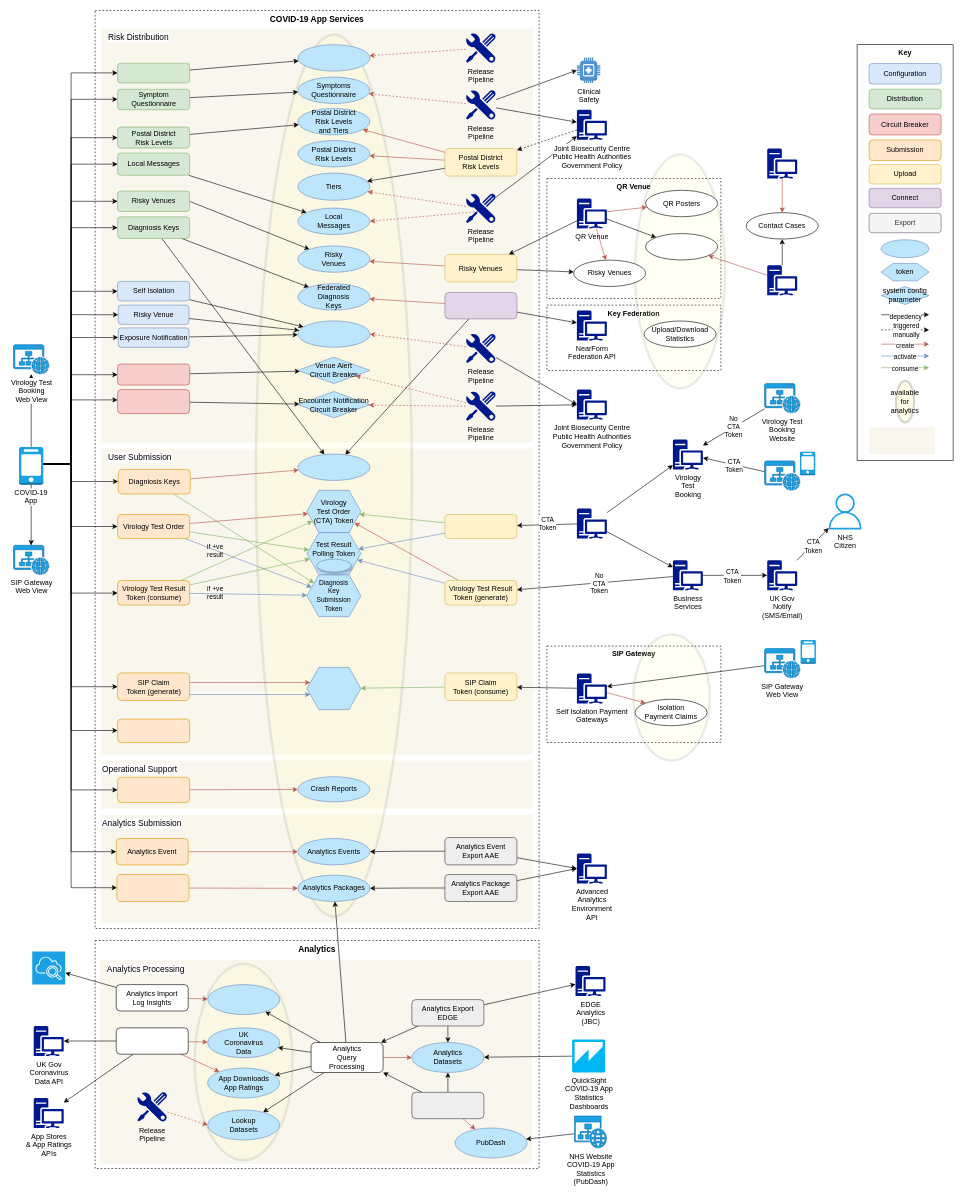
This 964x1198 diagram has some shape labels left out. Here are the shapes that lost their labels. From the top down, the centre of each, then its label:
[153,73]: App Availability
[333,57]: Minimum & Recommended Versions
[782,163]: Contact Tracing
[681,246]: Risky Postcodes
[904,248]: dataset
[782,280]: Joint BioSecurity Centre
[480,305]: Diagnosis Key Federation
[333,333]: Risk Calculation Configurations
[153,374]: Risky Venue Alert
[153,401]: Encounter Notification Alert
[902,440]: Composition Grouping
[333,466]: Diagnosis Keys
[782,475]: VirologyTest Booking Web View
[480,526]: Virology Test Result
[592,523]: Virology Test Labs
[334,566]: Test Result
[333,688]: SIP Claim (IPC) Token
[153,730]: Empty (traffic obfuscation)
[153,789]: Crash Report
[152,888]: Analytics Package
[48,968]: CloudWatch Service Logs
[243,999]: Log Insights
[152,1040]: Analytics Import External APIs
[447,1105]: Analytics PubDash
